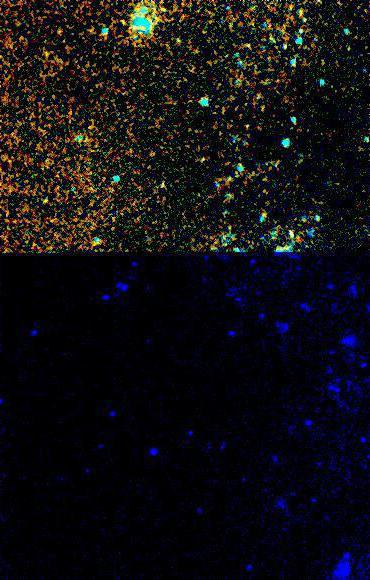star: (249, 200, 279, 230)
